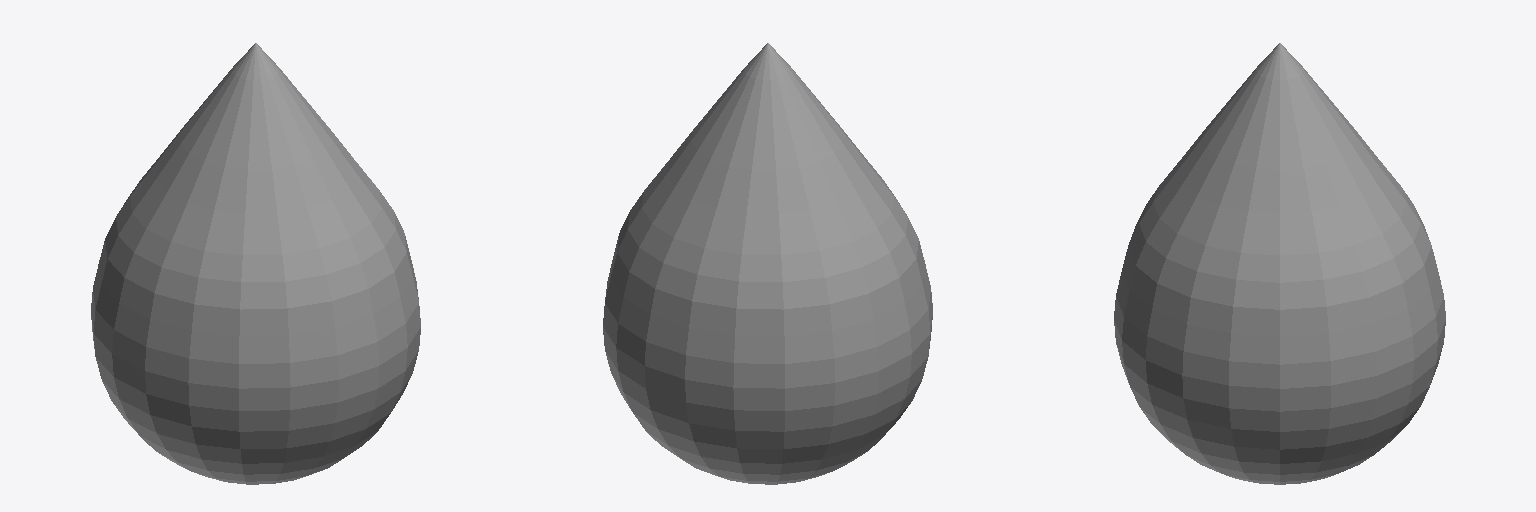
File: coxinha.obj
3 views of the same model, side by side, from view 1: azimuth 30°, elevation 25°; view 2: azimuth 150°, elevation 25°; view 3: azimuth 270°, elevation 25° (orthographic).
Parts seen in each view (by area): view 1: pSphere6; view 2: pSphere6; view 3: pSphere6.
Part boxes in pixels (x1,y1,x2,y2): pSphere6: (91,43,420,484); pSphere6: (603,43,932,484); pSphere6: (1114,43,1445,484).
Bounding box in the file's own units: 23.44 × 33.23 × 23.44.